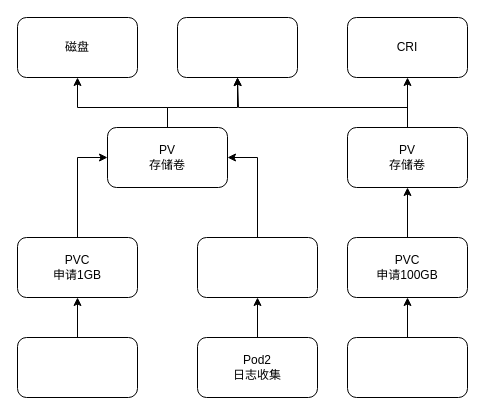
This 485x415 diagram has some shape labels left out. Each missing label, with the centre of its shape:
"NFS" goes at point (237, 47).
"Pod1 微服务" goes at point (77, 367).
"Pod3 数据库" goes at point (407, 367).
"PVC 申请 10GB" goes at point (257, 267).
